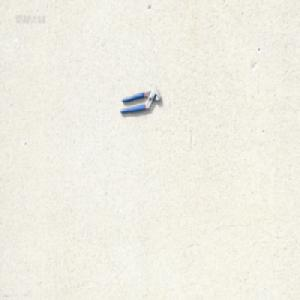Pliers: (118, 86, 161, 114)
